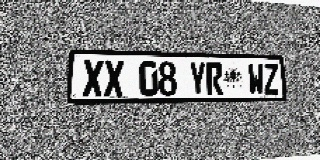0: (139, 61, 158, 96)
8: (158, 61, 177, 96)
R: (206, 62, 223, 95)
W: (248, 63, 264, 95)
X: (82, 60, 103, 97), (104, 60, 124, 97)
Y: (189, 62, 206, 95)
Z: (263, 63, 279, 94)
